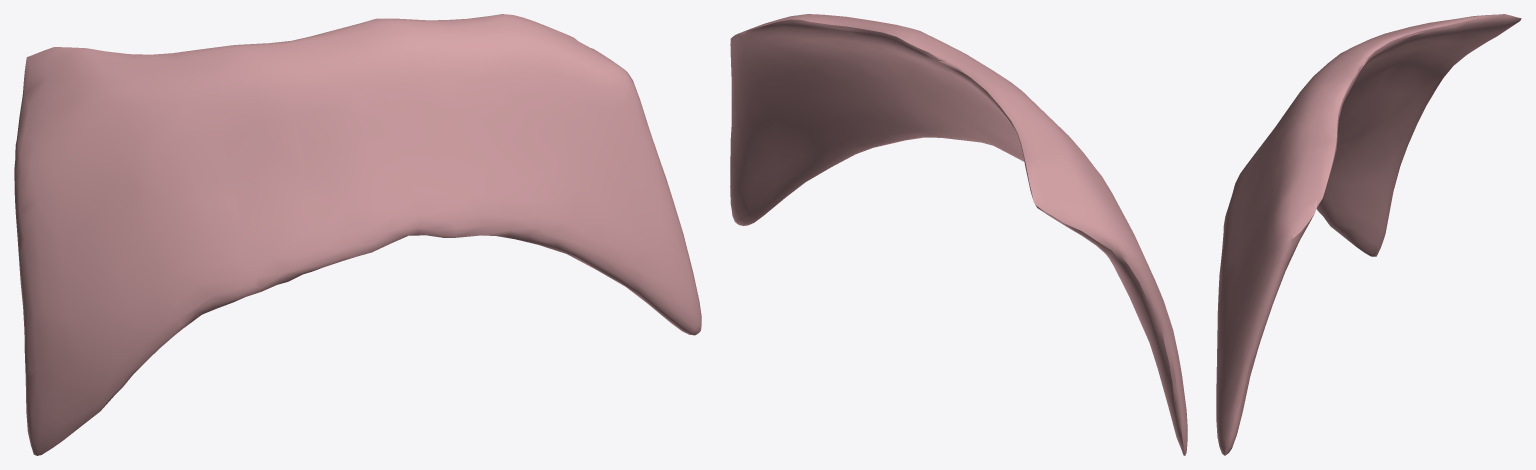
File: fma49062_mm2220m.glb
3 renders of one model, left to right at view 1: azimuth 30°, elevation 25°; view 2: azimuth 150°, elevation 25°; view 3: azimuth 270°, elevation 25°, orthographic. The views are drawn at different scales.
Parts seen in each view (by area): view 1: FMA49062_MM2220M; view 2: FMA49062_MM2220M; view 3: FMA49062_MM2220M.
Boxes of the visible parts, x1,y1,x2,y2 form: FMA49062_MM2220M: (14,14,701,455); FMA49062_MM2220M: (730,14,1187,455); FMA49062_MM2220M: (1216,14,1521,455).
Bounding box in the file's own units: 0.0227 × 0.0137 × 0.0121.
